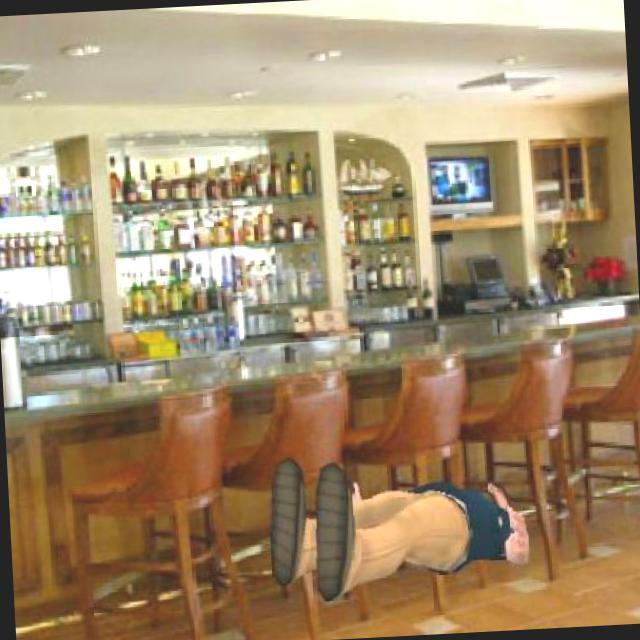Person: (264, 442, 536, 605)
